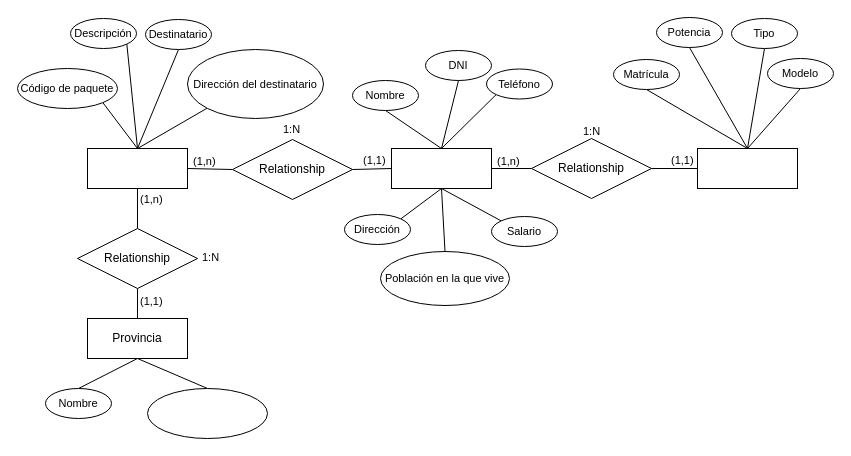
The diagram is 851 pixels wide and 456 high, and some of its shapes have lost their labels. The shapes that lost their labels are listed below. From the top down, each one's centre as x and y in pixels, then its label:
At point (137, 168): "Paquetes".
At point (441, 168): "Camioneros".
At point (747, 168): "Camiones".
At point (207, 413): "Código de provincia".
